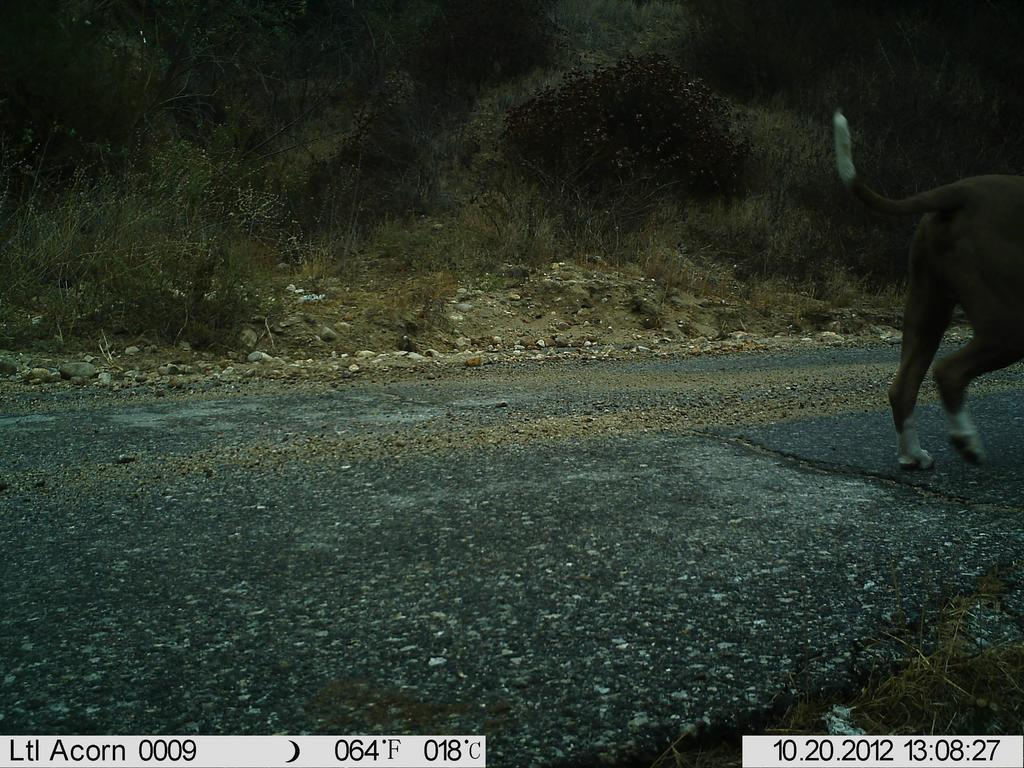dog: (821, 104, 1022, 487)
